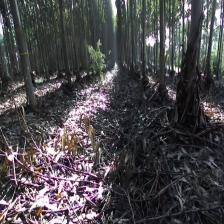trunk: (177, 2, 204, 118), (9, 4, 38, 107), (59, 5, 72, 85), (204, 0, 216, 76), (159, 5, 166, 92), (141, 2, 147, 80)
